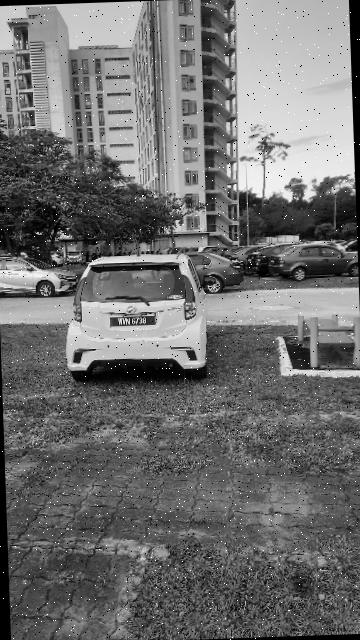License_Plate: (108, 311, 159, 330)
car: (63, 249, 212, 382)
